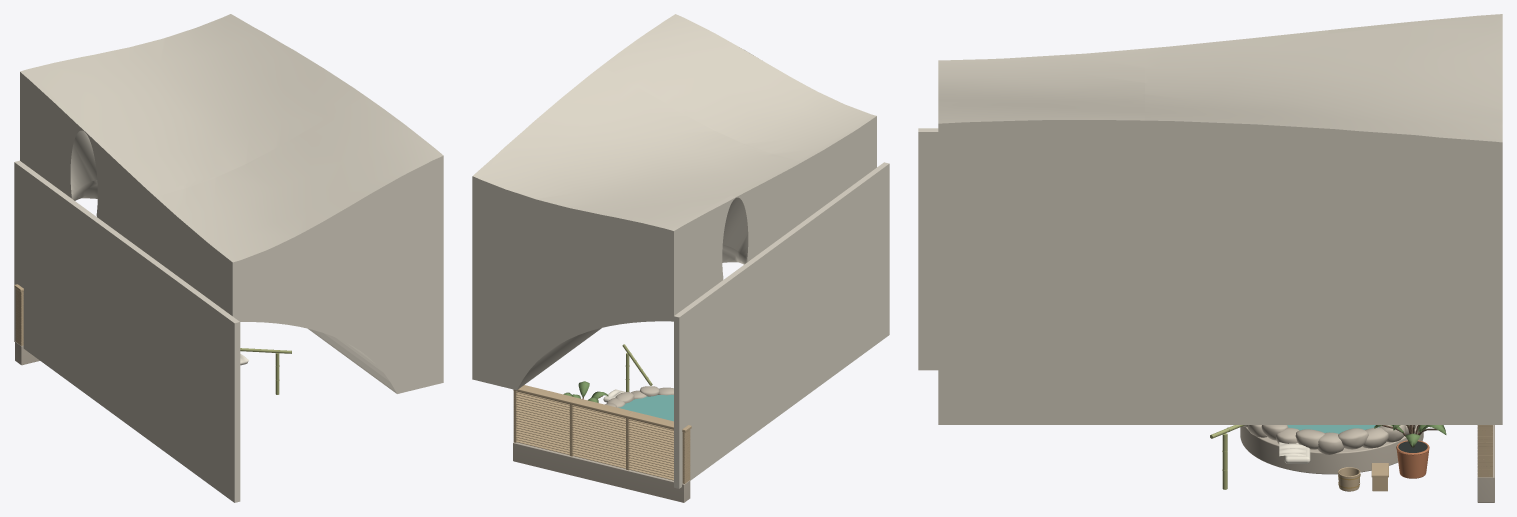
Rendered from room-onsen.glb.
3 views of the same model, side by side, from view 1: azimuth 30°, elevation 25°; view 2: azimuth 150°, elevation 25°; view 3: azimuth 270°, elevation 25° (orthographic). The views are drawn at different scales.
Visible parts, largest first — view 1: onsen_shadow_vault, onsen_privacy__cedar wood; view 2: onsen_shadow_vault, onsen_privacy__cedar wood, onsen_privacy__warm cut stone, onsen_water, onsen_decor warm cut stone; view 3: onsen_shadow_vault, onsen__warm cut stone, onsen_decor warm cut stone, onsen_decor cedar wood, onsen_privacy__cedar wood, onsen__terracotta.
Boxes of the visible parts, x1=… form: onsen_shadow_vault: x1=14, y1=14, x2=443, y2=502; onsen_privacy__cedar wood: x1=14, y1=284, x2=23, y2=345; onsen_shadow_vault: x1=472, y1=14, x2=889, y2=488; onsen_privacy__cedar wood: x1=513, y1=385, x2=691, y2=483; onsen_privacy__warm cut stone: x1=513, y1=442, x2=690, y2=502; onsen_water: x1=619, y1=394, x2=673, y2=421; onsen_decor warm cut stone: x1=605, y1=386, x2=673, y2=407; onsen_shadow_vault: x1=918, y1=14, x2=1502, y2=424; onsen__warm cut stone: x1=1240, y1=425, x2=1423, y2=474; onsen_decor warm cut stone: x1=1243, y1=425, x2=1416, y2=454; onsen_decor cedar wood: x1=1338, y1=463, x2=1388, y2=491; onsen_privacy__cedar wood: x1=1477, y1=425, x2=1492, y2=477; onsen__terracotta: x1=1396, y1=440, x2=1429, y2=478.
Bounding box in the file's own units: 3.91 × 5.23 × 6.78.
